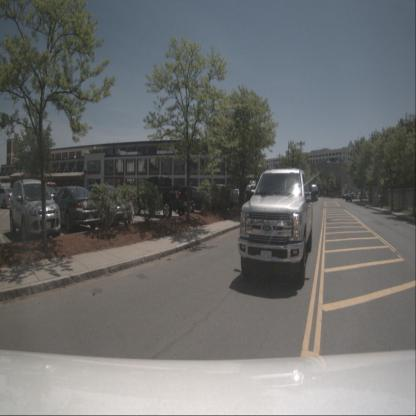vehicle-car: (9, 179, 61, 240), (75, 184, 132, 229), (48, 186, 103, 232), (178, 186, 214, 214), (0, 187, 17, 208), (346, 192, 352, 202), (349, 192, 356, 200)
vehicle-truck: (238, 168, 313, 285), (132, 176, 195, 219)
